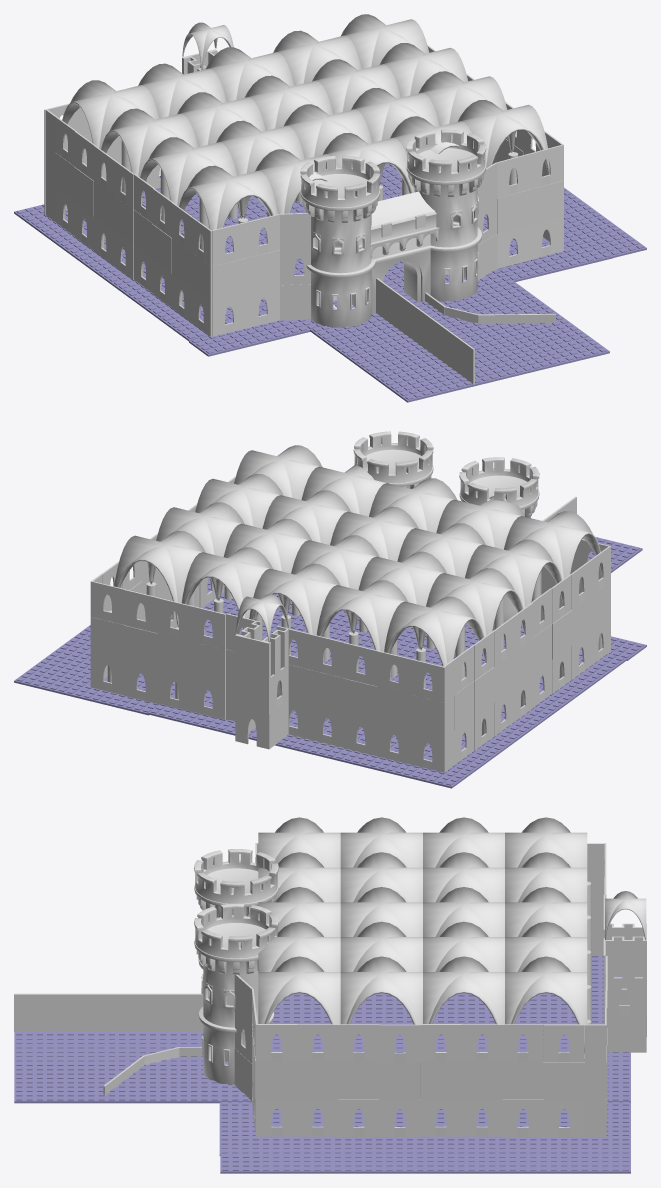
Rendered from GothicChurch.fbx.
3 views of the same model, one above another, from view 1: azimuth 30°, elevation 25°; view 2: azimuth 150°, elevation 25°; view 3: azimuth 270°, elevation 25° (orthographic). The views are drawn at different scales.
Visible parts, largest first — view 1: Front Entrance, Church Vault_8x8x8_proxy.006, Church Vault_8x8x8_proxy.007, Church Vault_8x8x8_proxy.017, Church Vault_8x8x8_proxy.016, Church Vault_8x8x8_proxy.005, Church Vault_8x8x8_proxy.008, Church Vault_8x8x8_proxy.021, Church Vault_8x8x8_proxy.013, Church Vault_8x8x8_proxy.018, Church Vault_8x8x8_proxy.020, Church Vault_8x8x8_proxy.014 (+85 smaller); view 2: Front Entrance, Church Vault_8x8x8_proxy.016, Church Vault_8x8x8_proxy.015, Church Vault_8x8x8_proxy.013, Church Vault_8x8x8_proxy.014, Church Vault_8x8x8_proxy.012, Church Vault_8x8x8_proxy.017, Church Vault_8x8x8_proxy.007, Church Vault_8x8x8_proxy.006, Church Vault_8x8x8_proxy.021, Church Vault_8x8x8_proxy.019, Church Vault_8x8x8_proxy.020 (+74 smaller); view 3: Front Entrance, Church Vault_8x8x8_proxy.015, Church Vault_8x8x8_proxy.008, Church Vault_8x8x8_proxy.005, Church Vault_8x8x8_proxy.018, Church Vault_8x8x8_proxy.016, Church Vault_8x8x8_proxy.007, Church Vault_8x8x8_proxy.013, Church Vault_8x8x8_proxy.010, Church Vault_8x8x8_proxy.017, Church Vault_8x8x8_proxy.020, Church Vault_8x8x8_proxy.009 (+83 smaller).
Boxes of the visible parts, x1,y1,x2,y2 form: Front Entrance: (300, 129, 486, 327); Church Vault_8x8x8_proxy.006: (179, 165, 277, 230); Church Vault_8x8x8_proxy.007: (140, 137, 241, 218); Church Vault_8x8x8_proxy.017: (101, 108, 198, 176); Church Vault_8x8x8_proxy.016: (62, 80, 159, 149); Church Vault_8x8x8_proxy.005: (457, 100, 549, 174); Church Vault_8x8x8_proxy.008: (418, 71, 511, 152); Church Vault_8x8x8_proxy.021: (244, 75, 332, 130); Church Vault_8x8x8_proxy.013: (138, 63, 226, 118); Church Vault_8x8x8_proxy.018: (379, 43, 467, 97); Church Vault_8x8x8_proxy.020: (177, 92, 265, 146); Church Vault_8x8x8_proxy.014: (273, 30, 361, 85); Front Entrance: (353, 431, 539, 628); Church Vault_8x8x8_proxy.016: (384, 596, 485, 666); Church Vault_8x8x8_proxy.015: (114, 530, 217, 627); Church Vault_8x8x8_proxy.013: (316, 580, 419, 651); Church Vault_8x8x8_proxy.014: (181, 547, 283, 629); Church Vault_8x8x8_proxy.012: (249, 563, 352, 635); Church Vault_8x8x8_proxy.017: (422, 568, 524, 648); Church Vault_8x8x8_proxy.007: (465, 539, 562, 608); Church Vault_8x8x8_proxy.006: (504, 511, 602, 579); Church Vault_8x8x8_proxy.021: (287, 535, 379, 615); Church Vault_8x8x8_proxy.019: (219, 518, 312, 599); Church Vault_8x8x8_proxy.020: (355, 551, 446, 631); Front Entrance: (194, 849, 278, 1085); Church Vault_8x8x8_proxy.015: (505, 956, 587, 1052); Church Vault_8x8x8_proxy.008: (340, 956, 422, 1024); Church Vault_8x8x8_proxy.005: (258, 956, 340, 1024); Church Vault_8x8x8_proxy.018: (423, 956, 504, 1024); Church Vault_8x8x8_proxy.016: (505, 817, 587, 867); Church Vault_8x8x8_proxy.007: (340, 817, 422, 867); Church Vault_8x8x8_proxy.013: (505, 852, 587, 902); Church Vault_8x8x8_proxy.010: (340, 852, 422, 902); Church Vault_8x8x8_proxy.017: (423, 817, 504, 867); Church Vault_8x8x8_proxy.020: (423, 852, 504, 902); Church Vault_8x8x8_proxy.009: (340, 921, 422, 971).
Bounding box in the file's own units: 5202 × 1640 × 6157.
